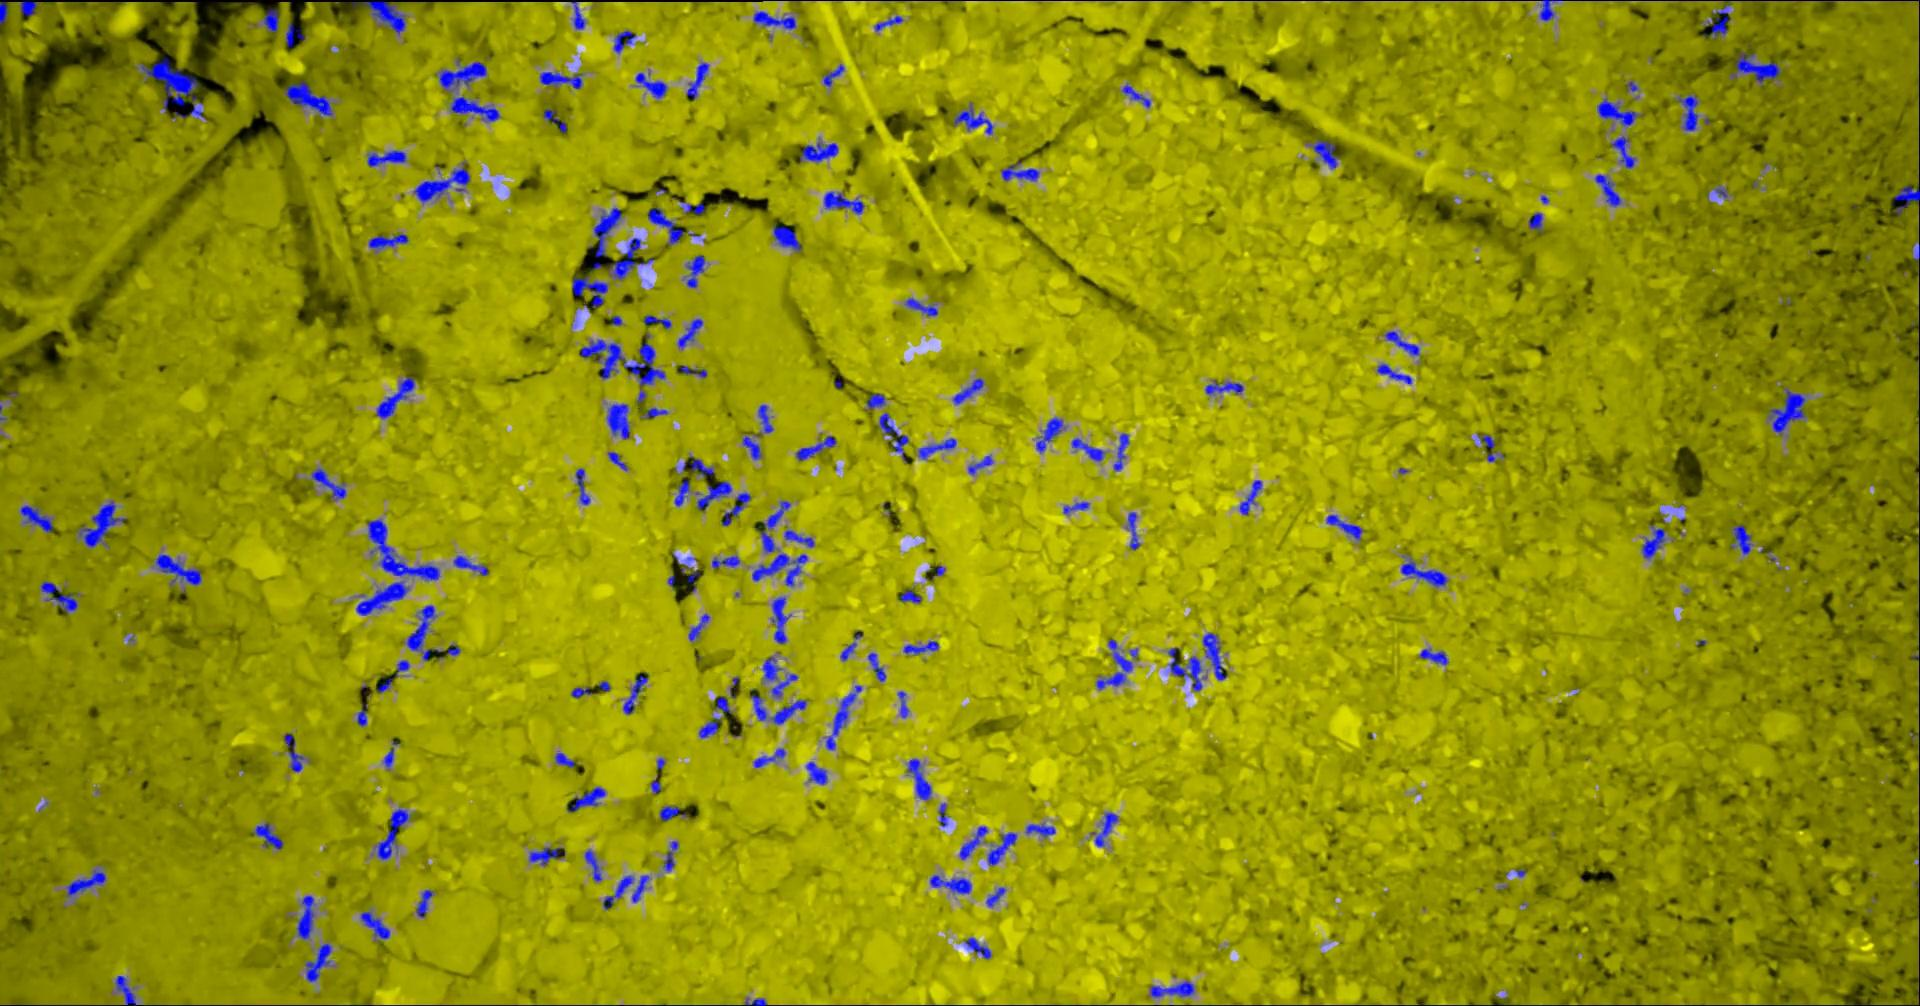ant: (406, 605, 458, 661), (825, 685, 861, 749), (77, 500, 124, 547), (413, 163, 469, 202), (750, 688, 806, 724), (607, 238, 653, 279), (750, 553, 808, 586), (592, 207, 621, 269), (1096, 638, 1131, 688), (356, 580, 408, 615), (376, 807, 409, 859), (284, 80, 331, 116), (1769, 387, 1804, 434), (758, 500, 790, 553), (1735, 51, 1780, 86), (375, 377, 414, 418), (1167, 647, 1203, 690), (361, 0, 405, 34), (439, 57, 486, 89), (879, 412, 908, 462), (155, 554, 201, 584), (1399, 558, 1448, 586), (648, 207, 683, 244), (571, 276, 607, 311), (41, 580, 77, 614), (450, 97, 499, 121), (1596, 98, 1638, 126), (952, 105, 993, 133), (622, 671, 648, 714), (1203, 633, 1225, 680), (66, 869, 105, 895), (311, 467, 345, 498), (602, 875, 632, 909), (795, 434, 836, 460), (305, 942, 331, 981), (377, 661, 409, 692), (696, 481, 731, 509), (907, 758, 931, 799), (721, 492, 750, 525), (1090, 812, 1117, 846), (1326, 514, 1363, 540), (823, 191, 863, 213), (987, 832, 1016, 864), (959, 826, 987, 859), (566, 786, 604, 810), (1035, 417, 1062, 451), (606, 403, 630, 439), (20, 506, 53, 532), (1705, 0, 1730, 36), (1594, 174, 1620, 206), (686, 62, 709, 99), (752, 10, 795, 29), (771, 597, 789, 643), (251, 822, 282, 848), (1610, 136, 1636, 168), (930, 874, 971, 893), (1070, 437, 1103, 461), (1641, 525, 1665, 558), (1384, 332, 1418, 354), (635, 72, 665, 98), (799, 141, 837, 161), (677, 318, 702, 348), (952, 379, 983, 404), (918, 438, 956, 459), (283, 733, 303, 771), (296, 895, 314, 939), (361, 911, 389, 937), (1893, 185, 1919, 215), (772, 225, 801, 250), (1239, 480, 1261, 514), (1001, 161, 1039, 180), (538, 71, 582, 88), (1150, 981, 1194, 997), (1121, 83, 1150, 107), (1312, 138, 1336, 168), (368, 232, 408, 250), (1377, 363, 1411, 384), (453, 555, 488, 575), (1677, 94, 1697, 130), (770, 673, 797, 697), (1730, 525, 1752, 554), (839, 630, 861, 661), (367, 150, 406, 166), (682, 456, 714, 476), (753, 748, 785, 767), (1204, 379, 1243, 394), (116, 976, 136, 1005), (686, 254, 703, 287), (688, 614, 709, 641), (528, 847, 563, 864), (905, 297, 937, 315), (1112, 433, 1128, 470), (783, 528, 813, 547), (542, 108, 566, 131), (584, 848, 601, 882), (662, 840, 678, 871), (822, 64, 844, 86), (867, 652, 885, 681), (284, 22, 305, 47), (965, 937, 990, 958), (575, 467, 589, 504), (415, 889, 433, 917), (1418, 648, 1448, 664), (613, 30, 635, 52), (698, 716, 721, 737), (806, 761, 827, 784), (631, 874, 648, 902), (968, 455, 992, 474), (762, 655, 781, 680), (903, 640, 938, 653), (872, 15, 902, 30), (1539, 0, 1561, 20), (742, 436, 761, 459), (1128, 511, 1139, 549), (757, 404, 772, 432), (1025, 823, 1055, 837), (571, 0, 585, 29), (674, 479, 690, 506), (659, 805, 686, 821), (643, 314, 670, 328), (677, 365, 706, 377), (263, 8, 278, 32), (607, 451, 626, 470), (985, 887, 1004, 906), (711, 555, 739, 568), (383, 741, 396, 767), (1063, 500, 1088, 513), (554, 752, 574, 767), (19, 0, 37, 17), (866, 392, 884, 409), (714, 696, 731, 713), (681, 201, 703, 213), (897, 691, 908, 716), (1528, 212, 1542, 232), (643, 406, 667, 418), (356, 702, 367, 727), (899, 589, 921, 602), (570, 686, 590, 697), (1477, 434, 1495, 447), (687, 572, 698, 591), (938, 801, 947, 826), (0, 0, 8, 25), (650, 775, 660, 793), (744, 998, 766, 1005)
